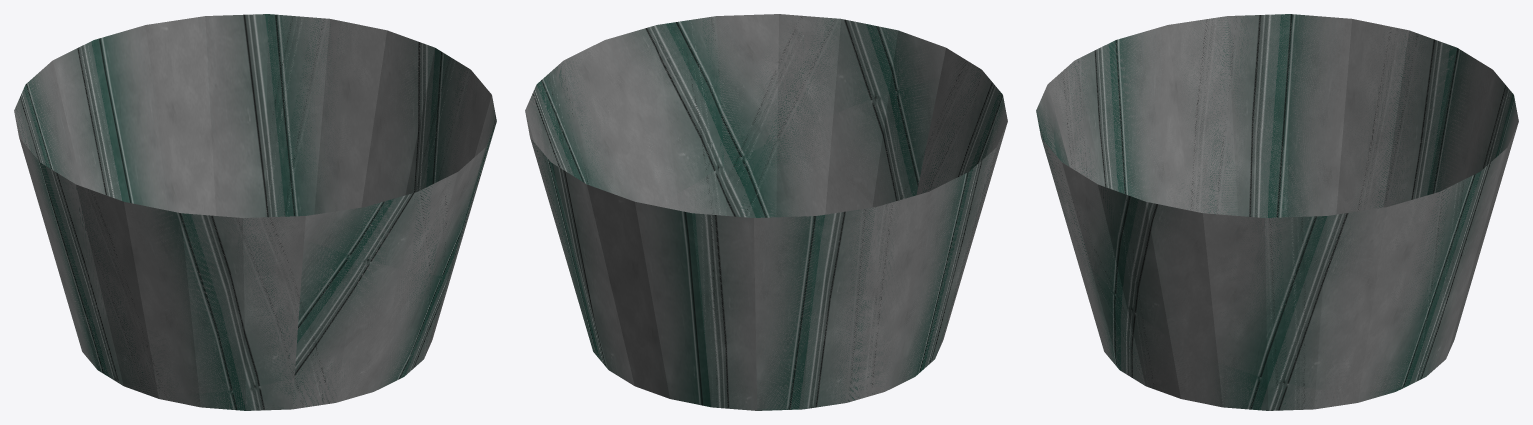
The model's file is original-5.obj.
3 renders of one model, left to right at view 1: azimuth 30°, elevation 25°; view 2: azimuth 150°, elevation 25°; view 3: azimuth 270°, elevation 25°, orthographic.
Visible parts, largest first — view 1: #ID43; view 2: #ID43; view 3: #ID43.
Boxes of the visible parts, x1,y1,x2,y2 form: #ID43: (14, 14, 496, 410); #ID43: (525, 14, 1007, 410); #ID43: (1036, 14, 1518, 410).
Size of the model in its own units: 1.08 by 0.5436 by 1.08.
